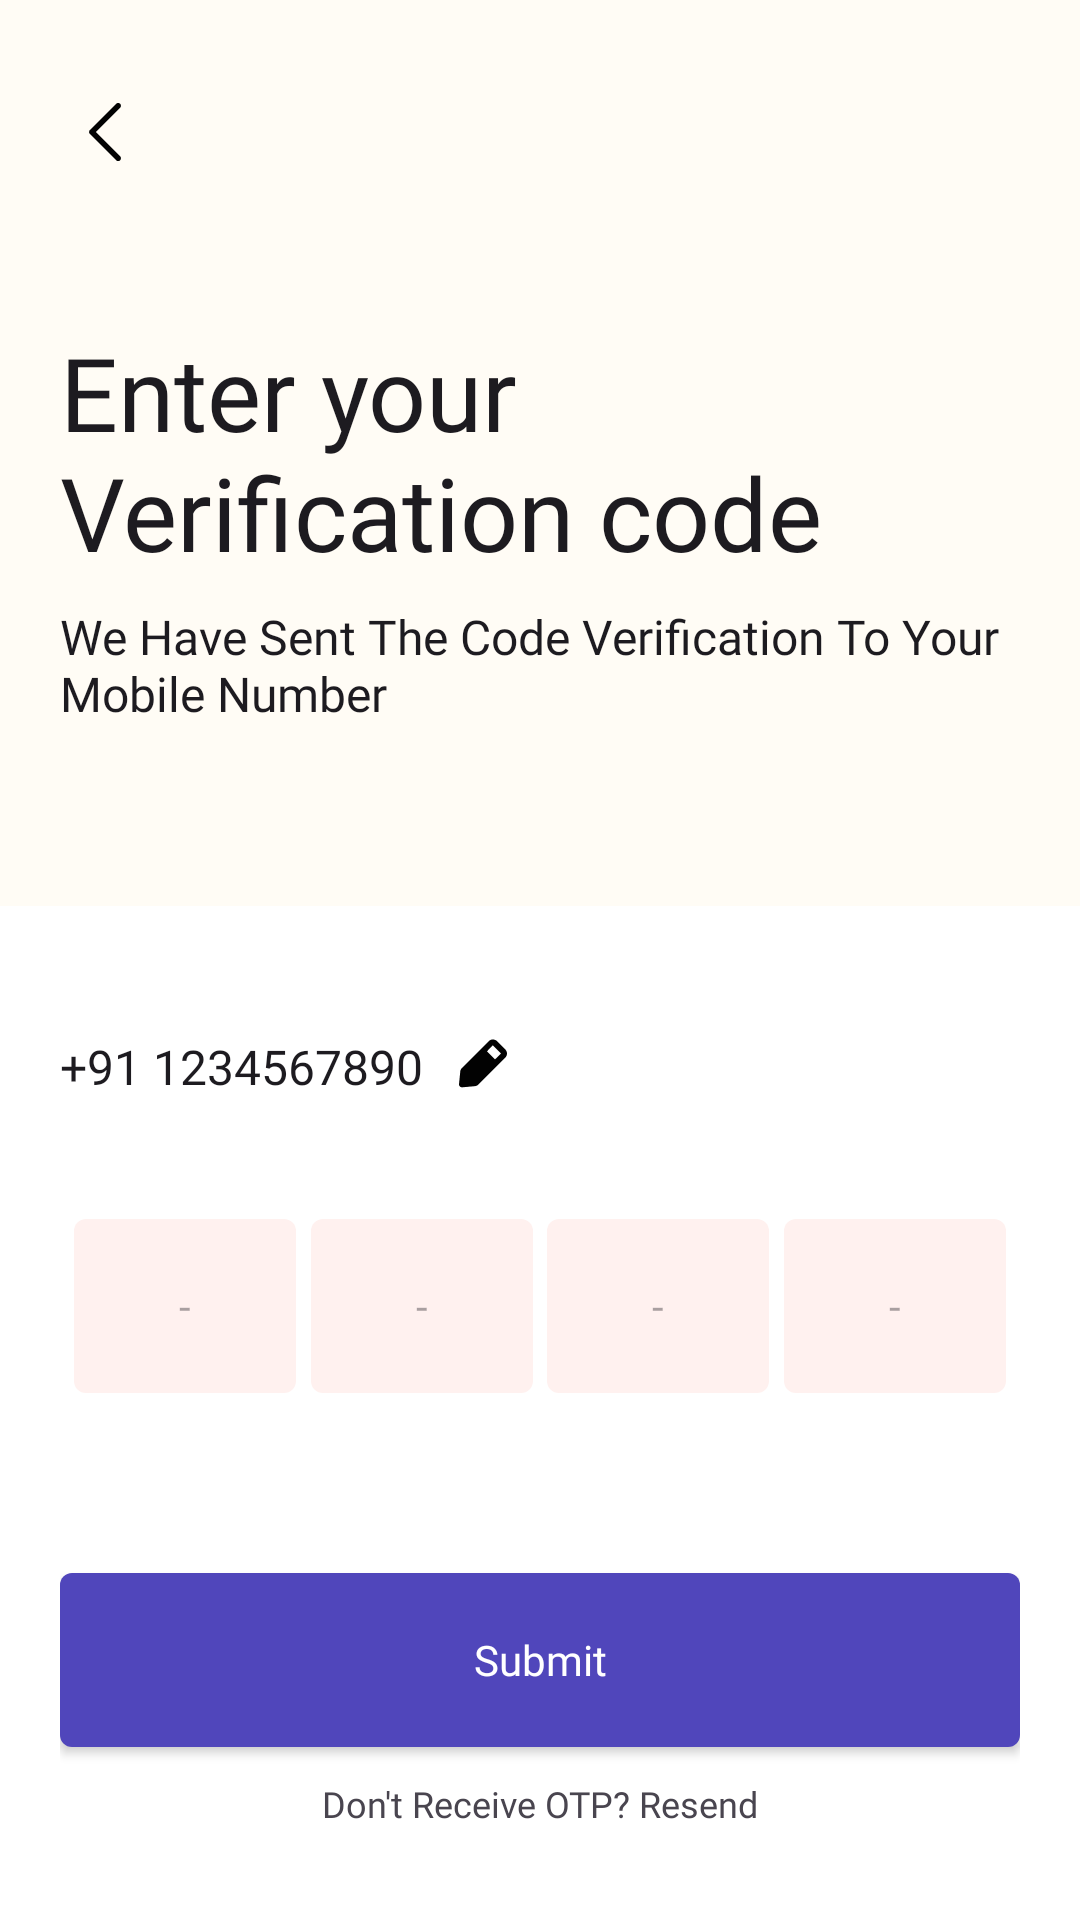

Named icons in this screenshot (1080×1920) and their centers, (x=x, y=y):
arrow back: (x=105, y=132)
